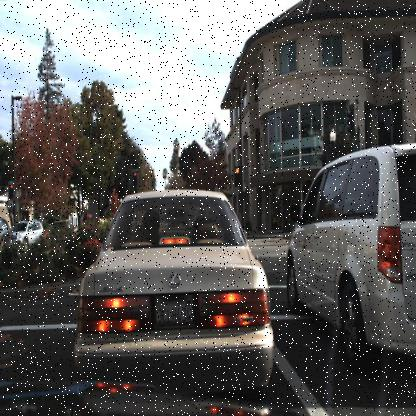car: (71, 185, 273, 386), (286, 126, 416, 378), (8, 218, 48, 248), (9, 219, 45, 247)
trafficLight-Red: (234, 164, 241, 188), (8, 181, 15, 201), (132, 169, 138, 188)
